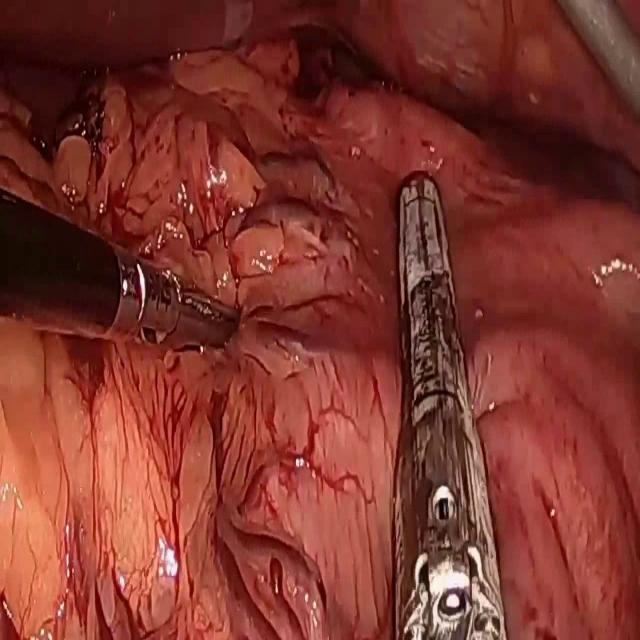surgical-area: (0, 0, 640, 639)
surgical-tool: (392, 172, 504, 638), (0, 187, 239, 350)
